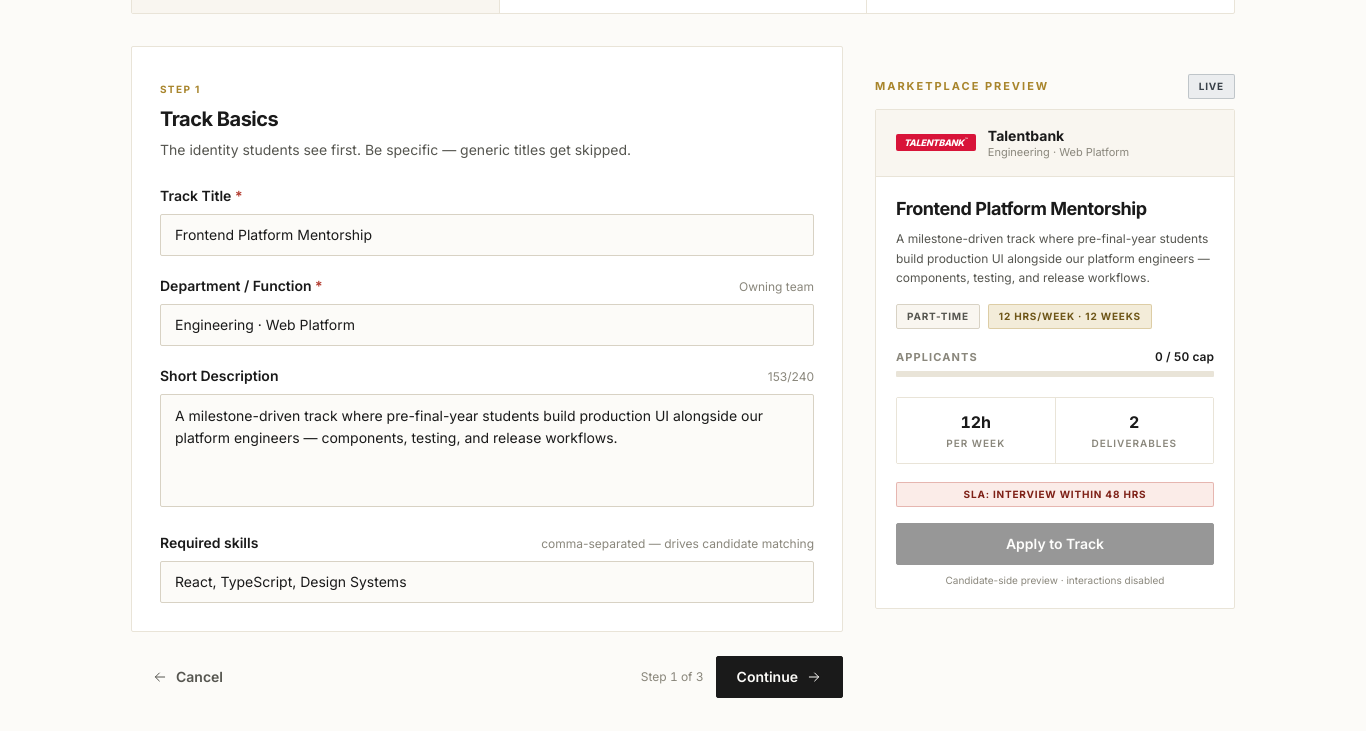
Test case: TrackBuilder › adds and removes deliverable milestones on step 3
(page scrolled)
Step 1. Click the button "Continue" → (779, 676), box [716,656,843,698]
(page scrolled)
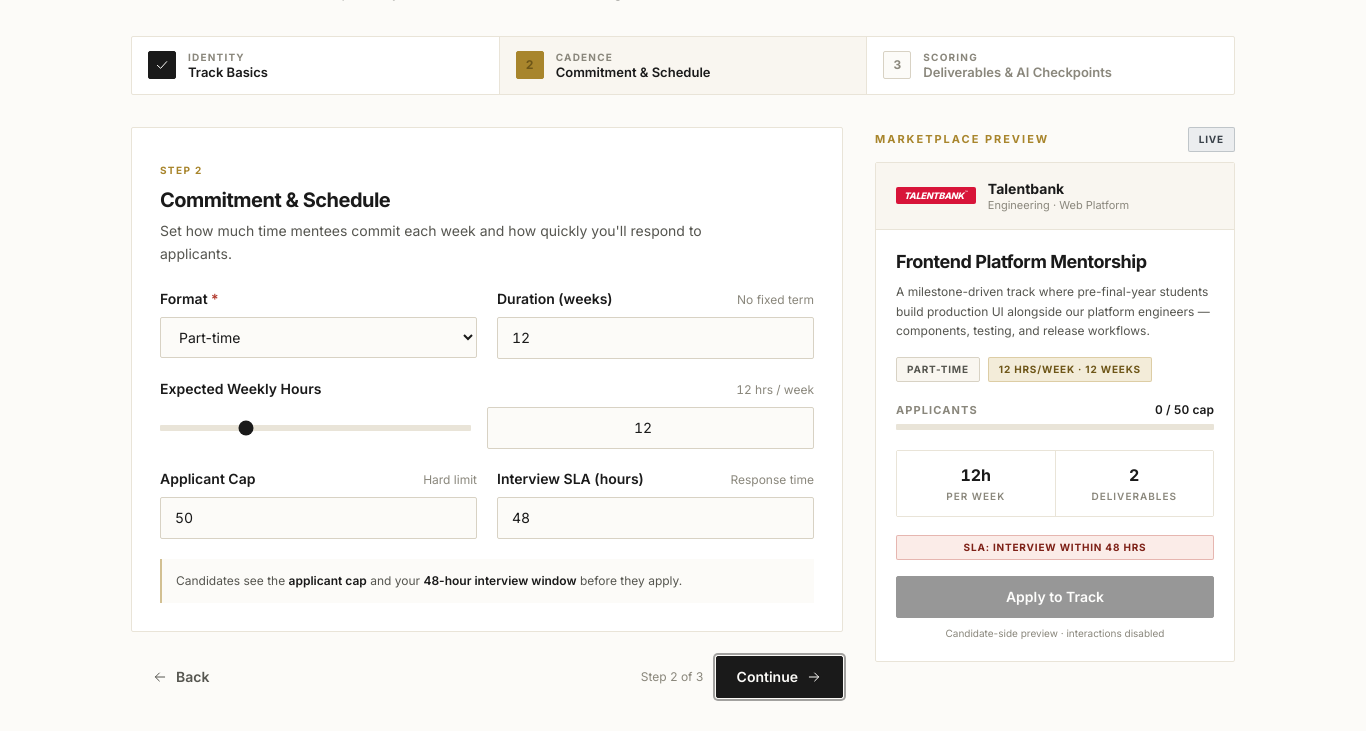
Step 2. Click the button "Continue" → (779, 677), box [716,656,843,698]
(page scrolled)
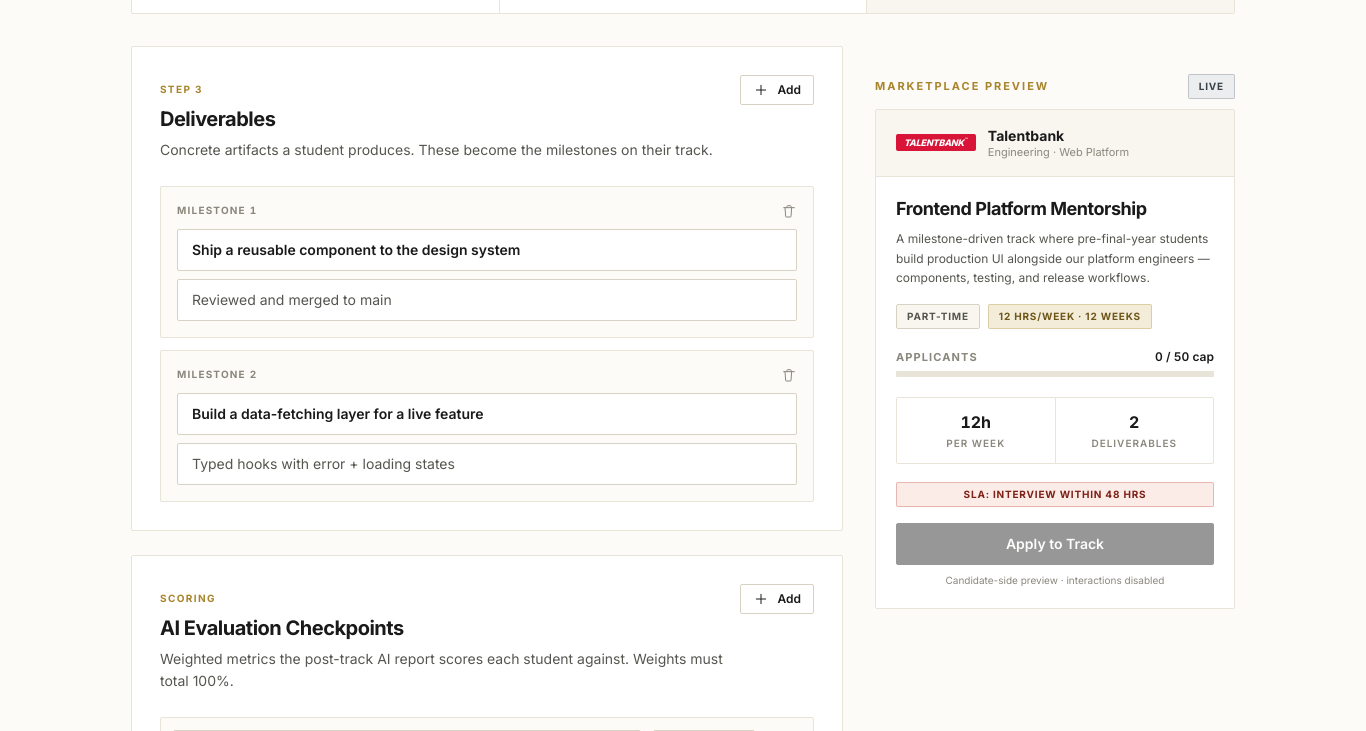
Expected: the text "Milestone 1" is shown 2 times, [177,203,258,218]; [177,367,258,382]
Step 3. Click the 1st button "Add" → (777, 90), box [740,75,814,105]
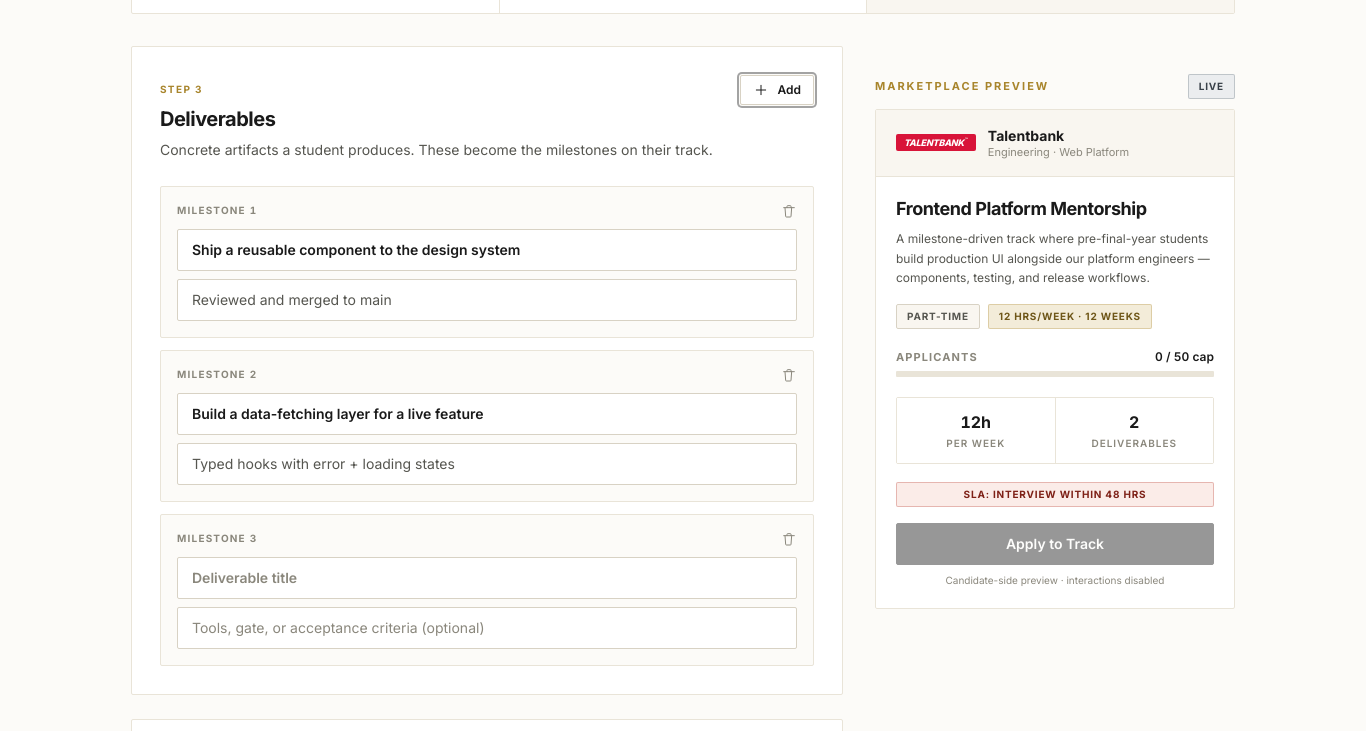
Expected: the text "Milestone 1" is shown 3 times, [177,203,258,218]; [177,367,258,382]; [177,531,258,546]
Step 4. Click the 1st button named "Remove deliverable" → (789, 210), box [781,202,797,218]
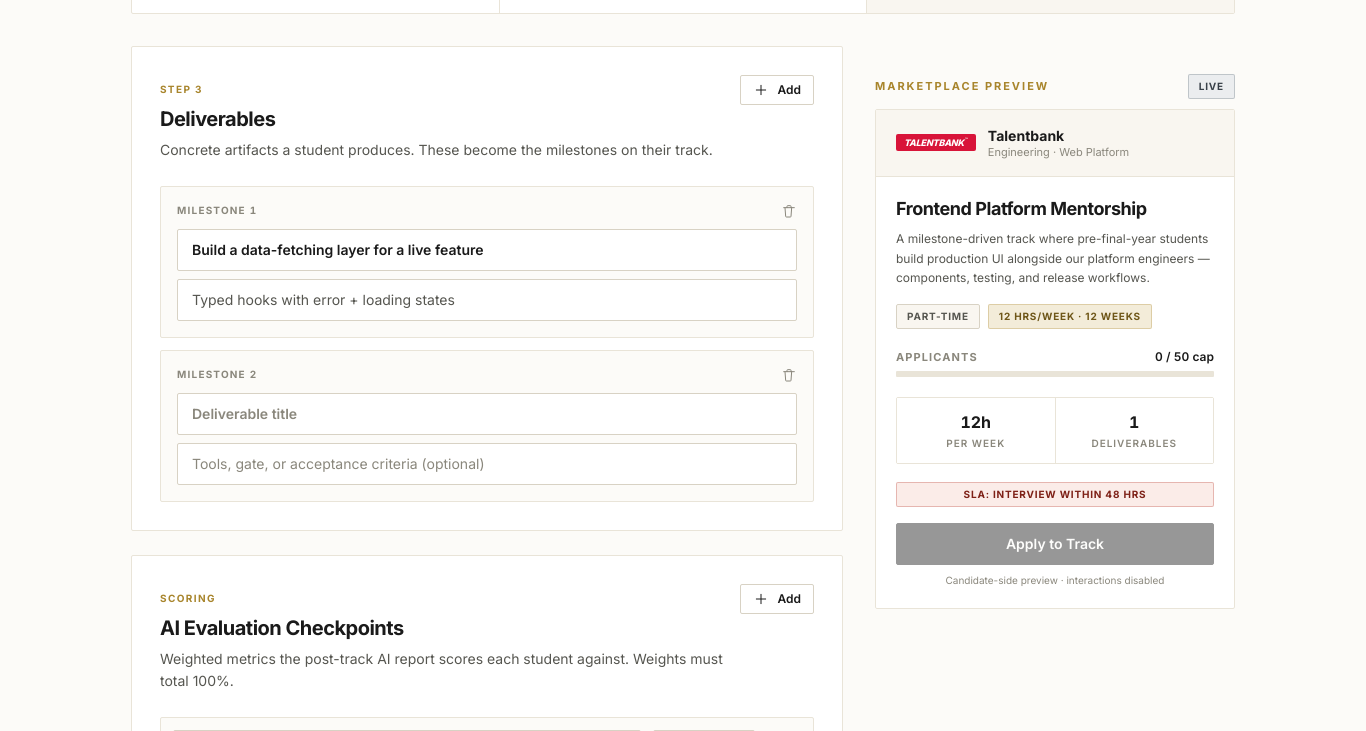
Expected: the text "Milestone 1" is shown 2 times, [177,203,258,218]; [177,367,258,382]
